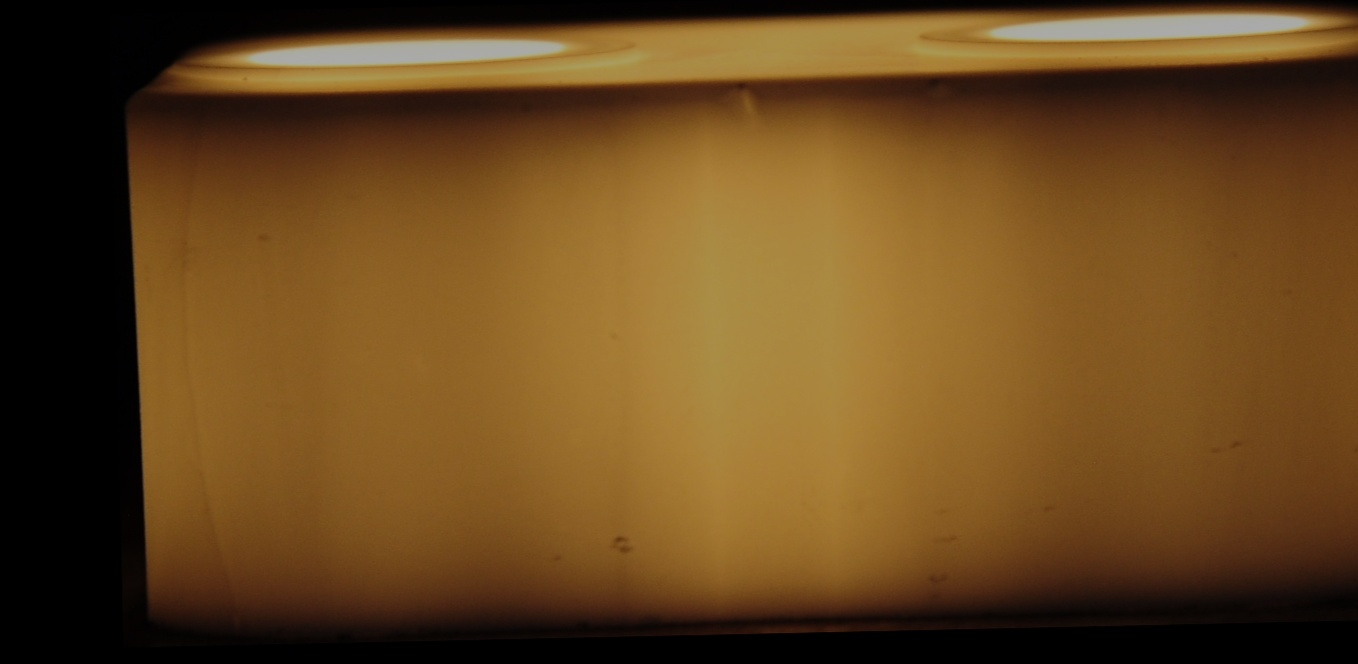flaw: (165, 94, 245, 623)
hiatus: (706, 75, 767, 122), (913, 72, 969, 119)
